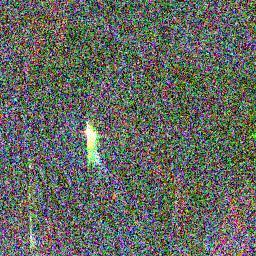Ship: (82, 126, 99, 152), (25, 227, 37, 249)
